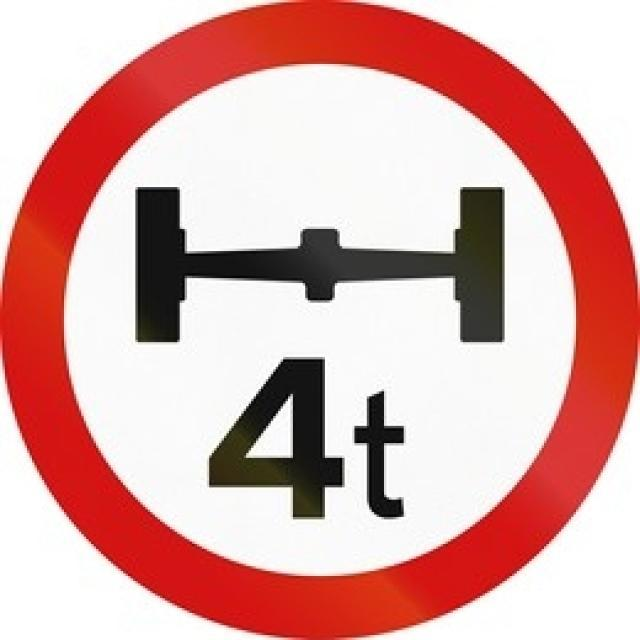axle load limit: (15, 20, 622, 622)
